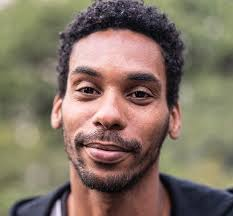black_male: (55, 37, 177, 181)
